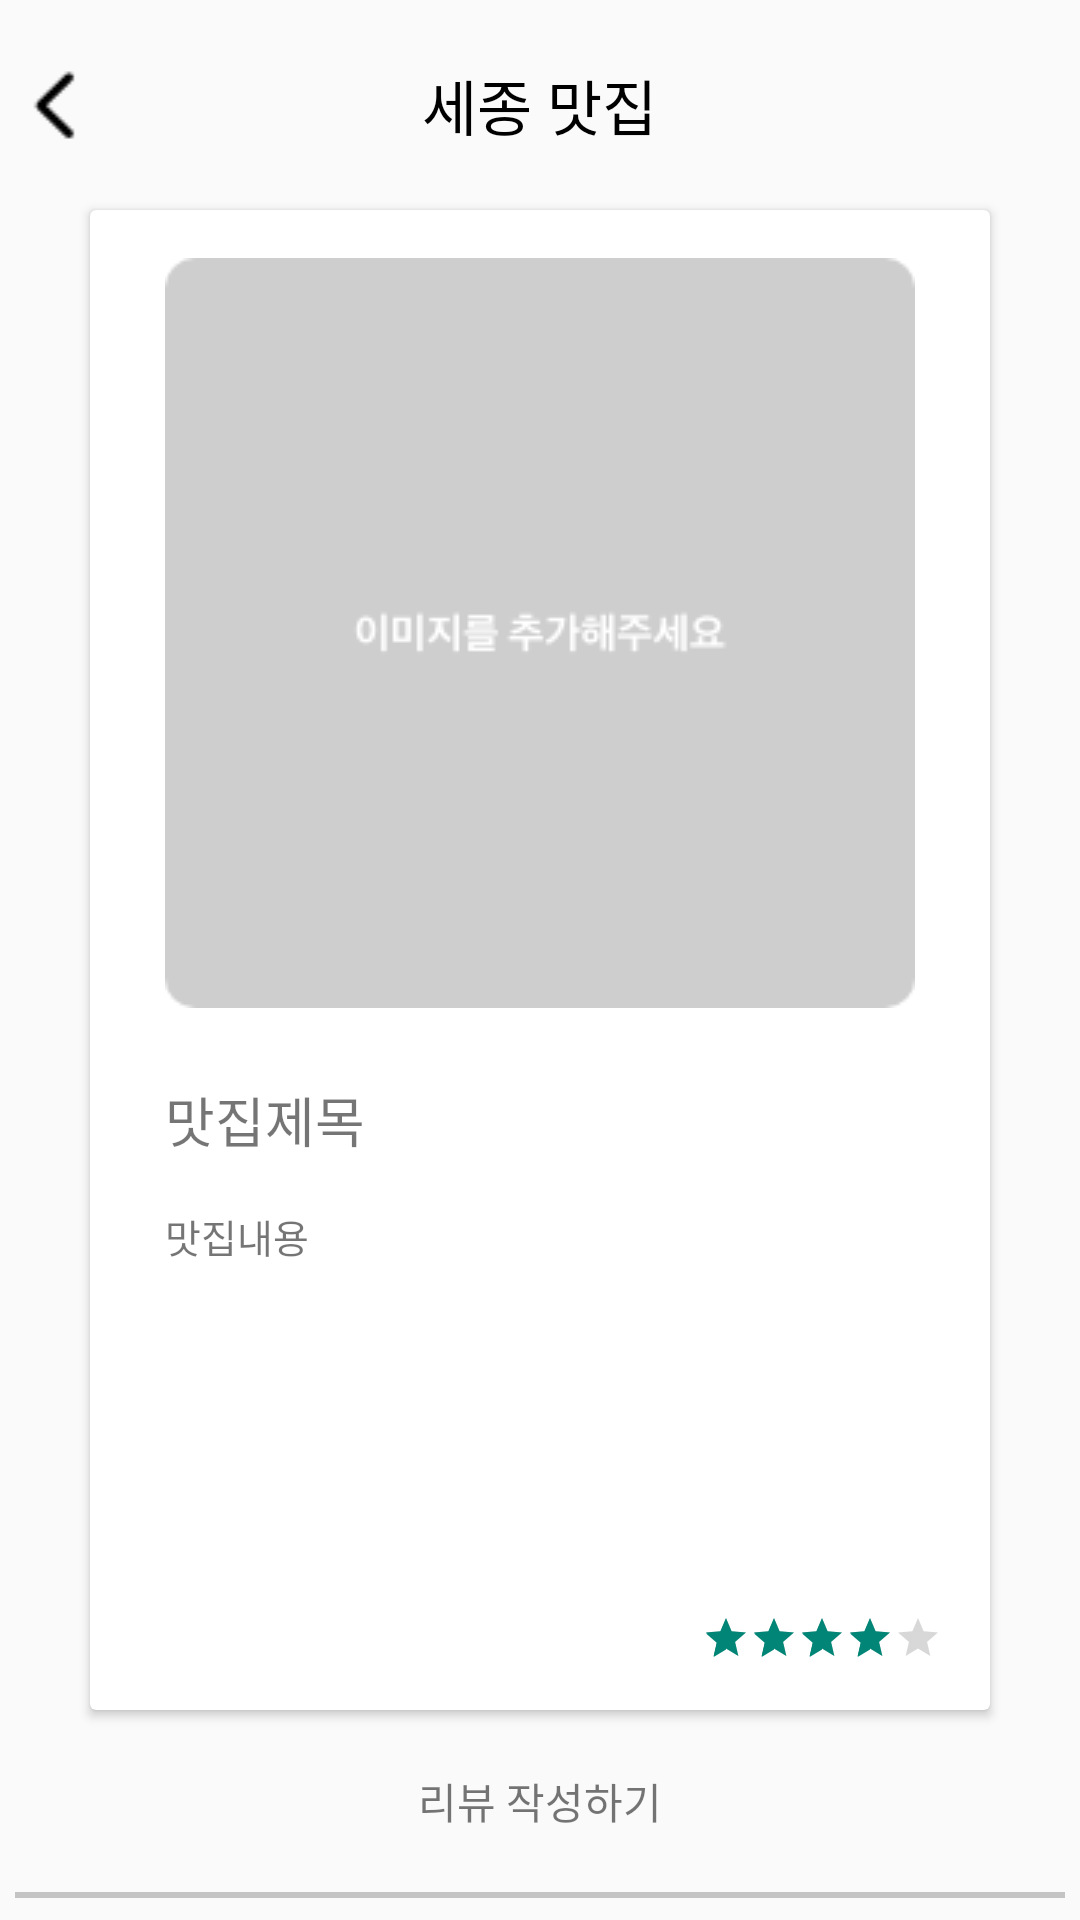

Point at icon controls on the screen. Image size 1080px×1920px, points as (x,y).
leftbtn: (54,105)
